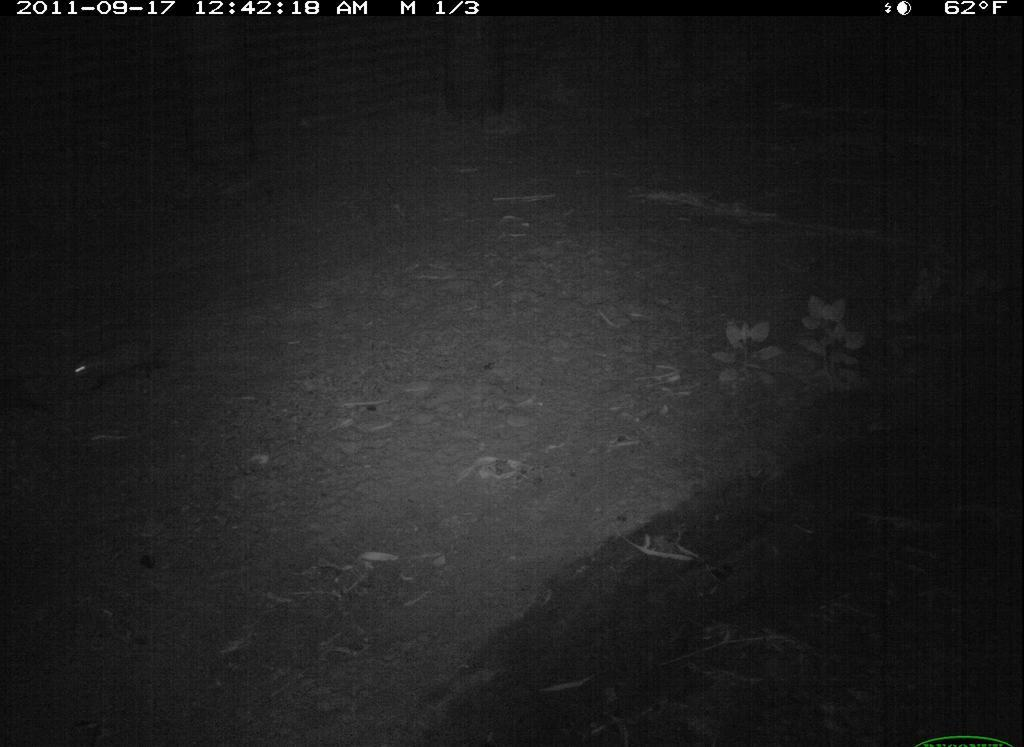opossum: (38, 327, 181, 396)
